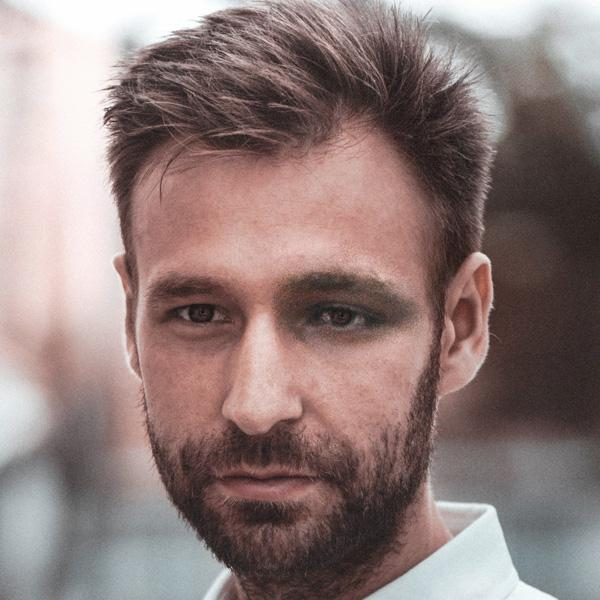Eyes: (292, 295, 386, 340), (155, 295, 239, 339)
